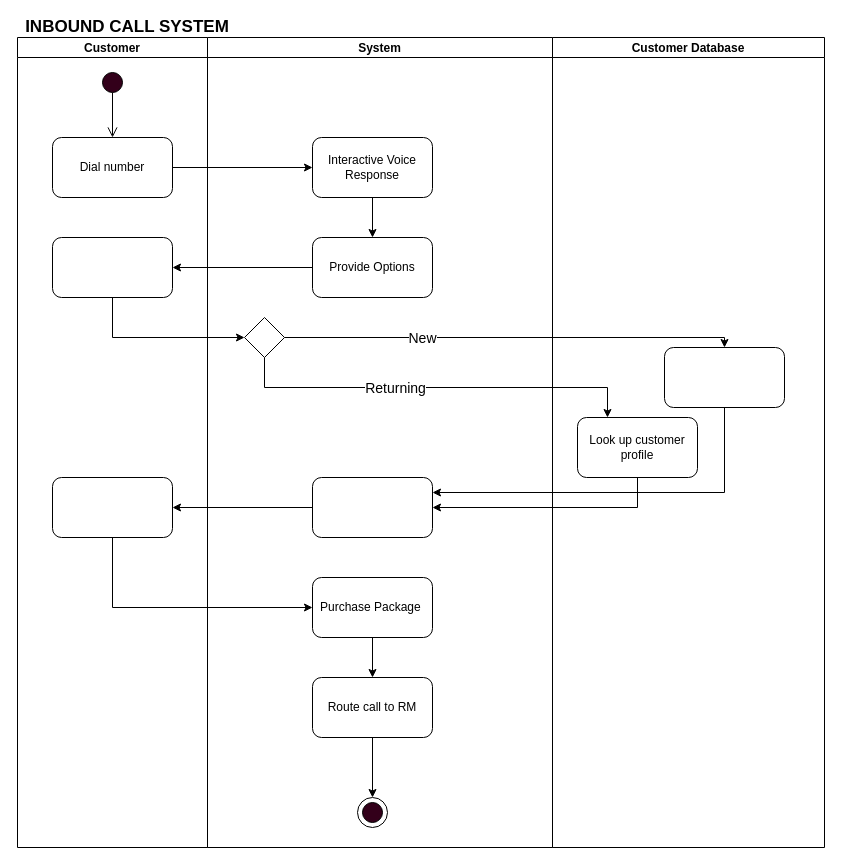
This 842x865 diagram has some shape labels left out. The centre of each missing label's shape, as x and y in pixels:
"Create customer profile" goes at (724,377).
"Provide reason for call" goes at (112,507).
"Request reason for call" goes at (372,507).
"Select New or Returning Customer" goes at (112,267).
